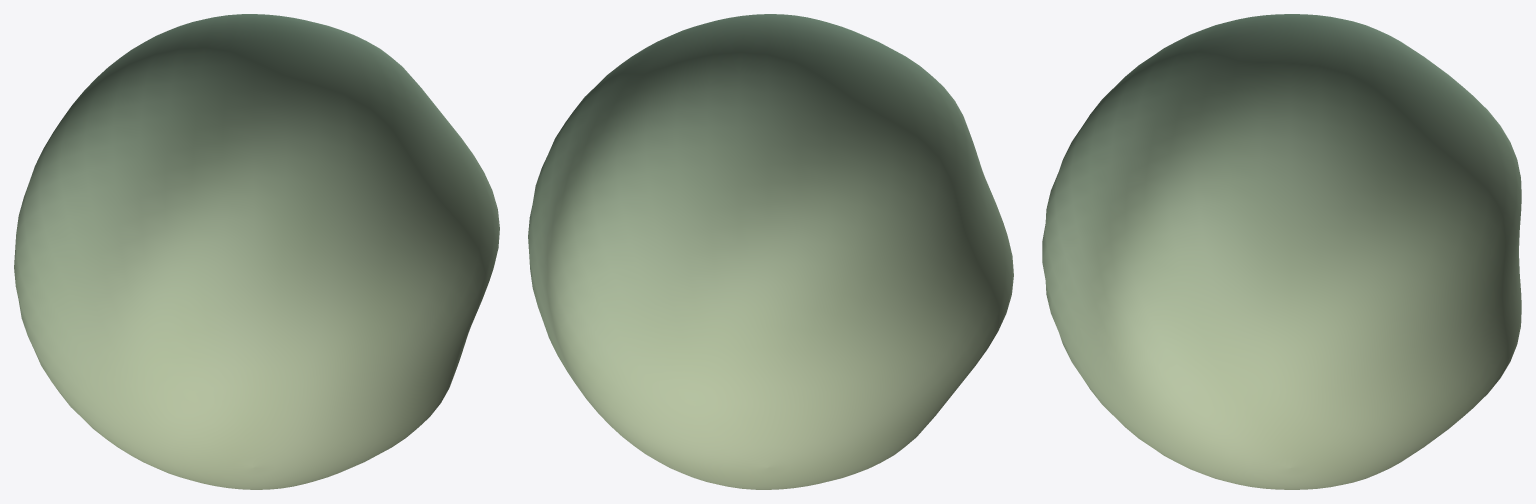
File: turtle_head.glb
3 views of the same model, side by side, from view 1: azimuth 30°, elevation 25°; view 2: azimuth 150°, elevation 25°; view 3: azimuth 270°, elevation 25° (orthographic).
Visible parts, largest first — view 1: world; view 2: world; view 3: world.
Part boxes in pixels (x1=…): world: x1=14, y1=14, x2=499, y2=489; world: x1=528, y1=14, x2=1013, y2=489; world: x1=1042, y1=14, x2=1521, y2=489.
Bounding box in the file's own units: 0.2661 × 0.26 × 0.2615.
